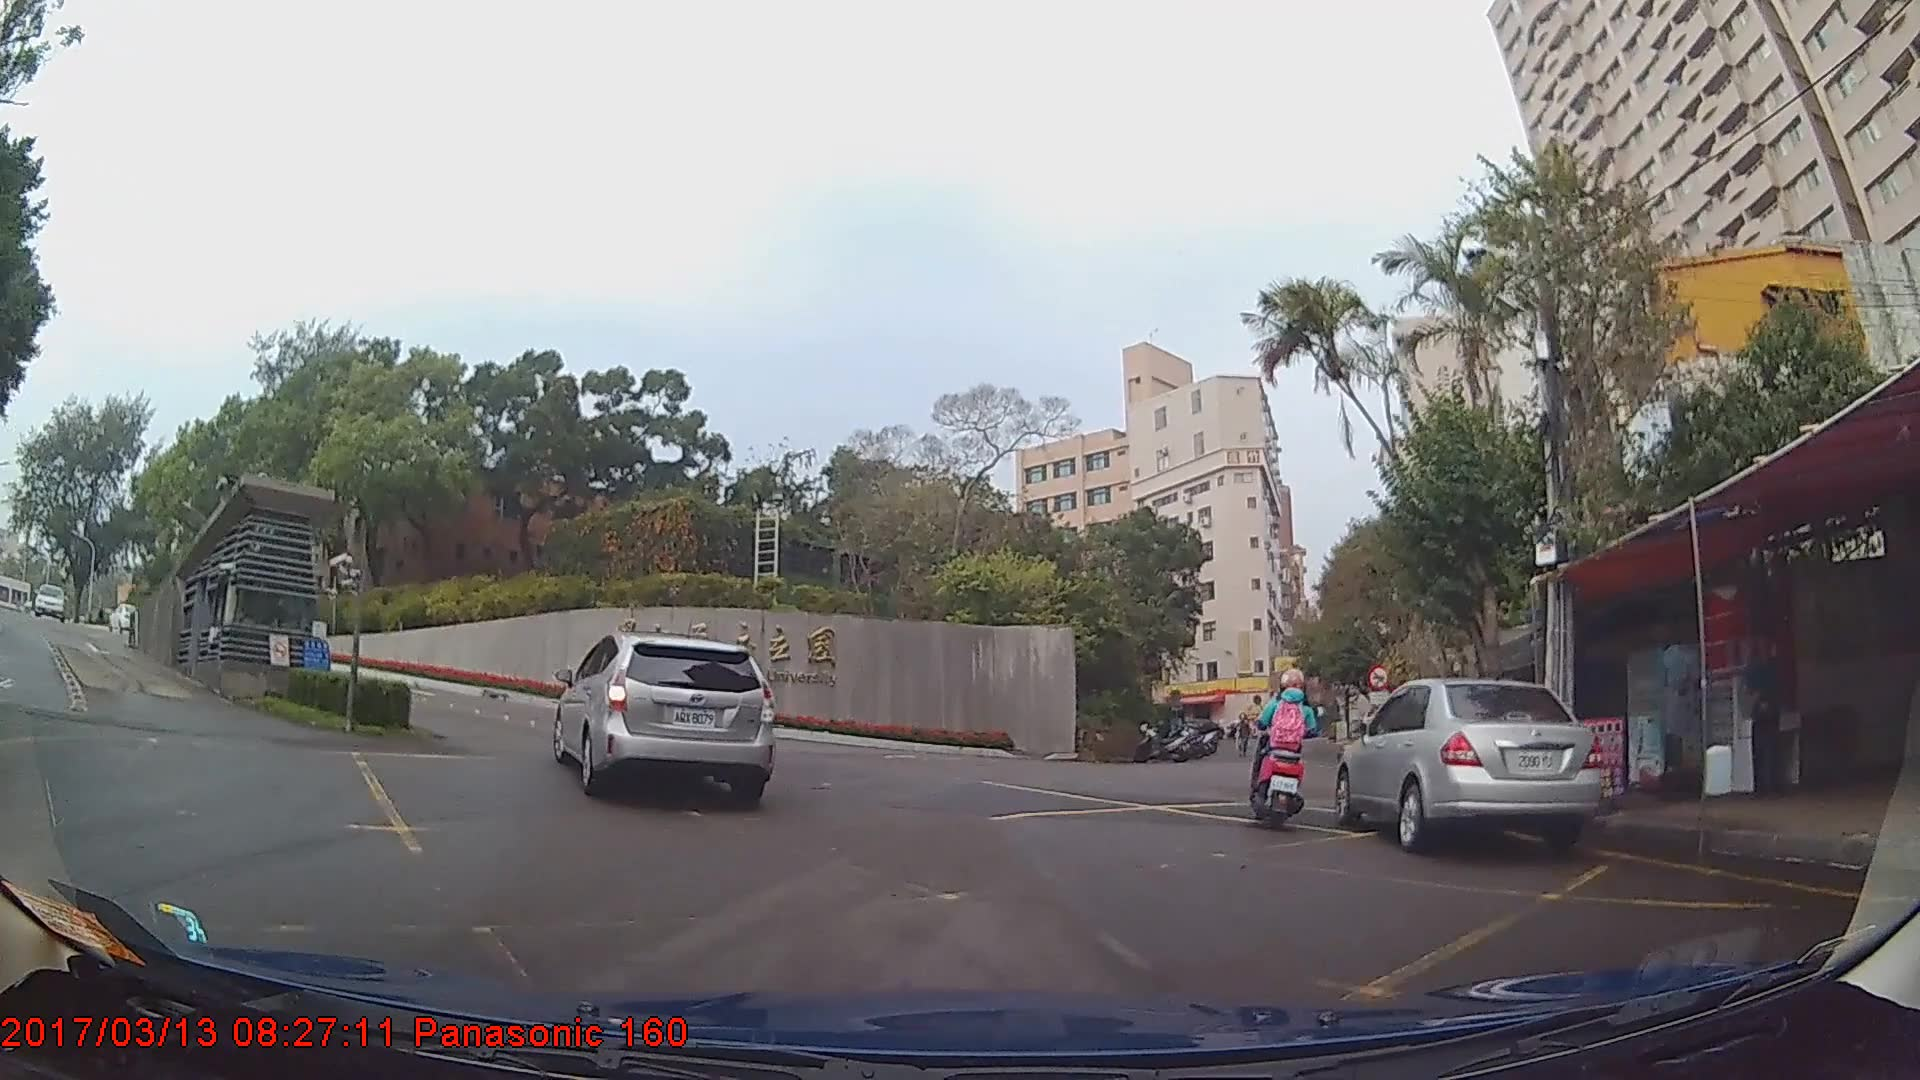pedestrian: (1744, 633, 1791, 793), (1233, 712, 1253, 756)
rider: (1248, 666, 1322, 836)
vehicle: (1335, 675, 1605, 850), (551, 629, 773, 805), (30, 581, 67, 620), (108, 602, 143, 632)
